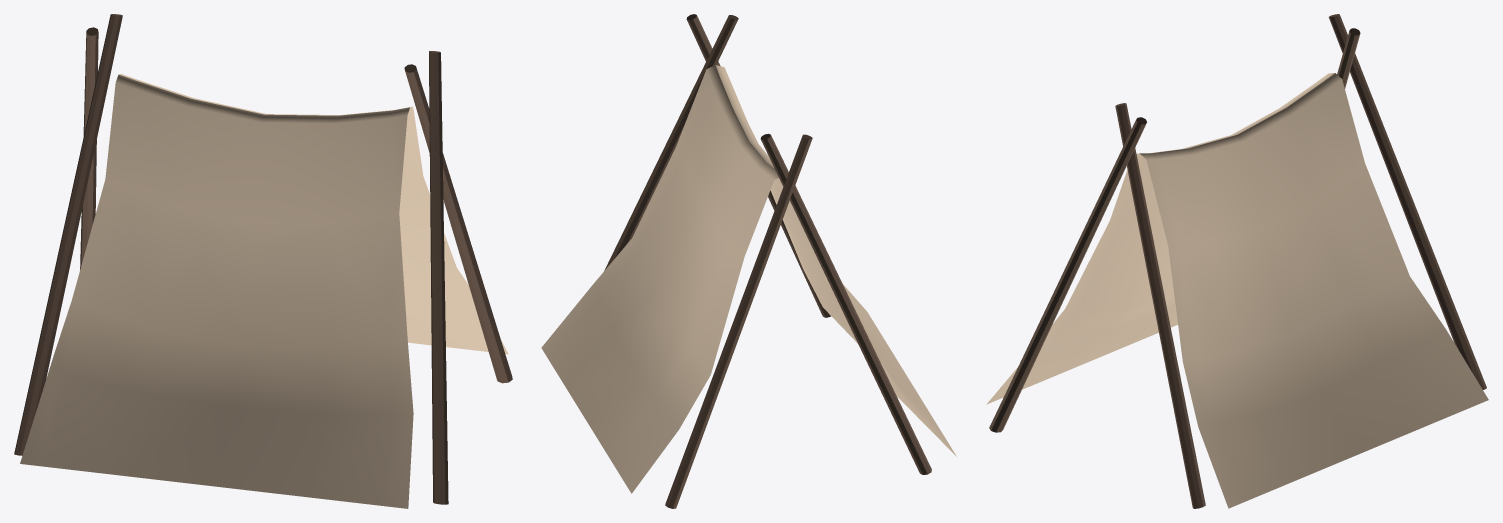
File: camp tent.fbx
3 renders of one model, left to right at view 1: azimuth 30°, elevation 25°; view 2: azimuth 150°, elevation 25°; view 3: azimuth 270°, elevation 25°, orthographic. The views are drawn at different scales.
Parts seen in each view (by area): view 1: polySurface36, polySurface37, polySurface40, polySurface38, polySurface41; view 2: polySurface36, polySurface41, polySurface40, polySurface38, polySurface37; view 3: polySurface36, polySurface38, polySurface41, polySurface37, polySurface40.
Boxes of the visible parts, bbox=[...] form: polySurface36: bbox=[20, 74, 508, 508]; polySurface37: bbox=[429, 51, 448, 504]; polySurface40: bbox=[14, 14, 122, 455]; polySurface38: bbox=[404, 64, 512, 383]; polySurface41: bbox=[80, 27, 98, 269]; polySurface36: bbox=[541, 65, 956, 493]; polySurface41: bbox=[665, 134, 812, 508]; polySurface40: bbox=[760, 133, 931, 474]; polySurface38: bbox=[604, 15, 738, 270]; polySurface37: bbox=[686, 14, 830, 317]; polySurface36: bbox=[986, 73, 1488, 508]; polySurface38: bbox=[1115, 103, 1205, 508]; polySurface41: bbox=[1328, 14, 1486, 389]; polySurface37: bbox=[989, 117, 1146, 432]; polySurface40: bbox=[1337, 28, 1360, 88].
Bounding box in the file's own units: 111 × 84.27 × 112.
